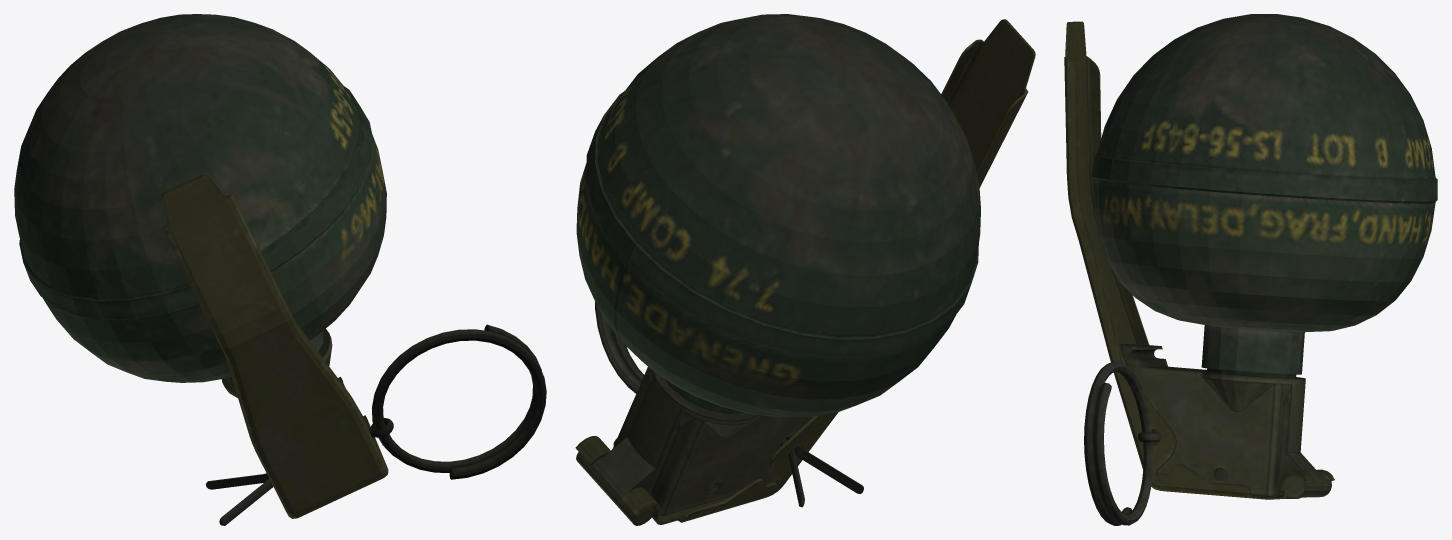
The picture shows the model from 3 angles, left to right: view 1: azimuth 30°, elevation 25°; view 2: azimuth 150°, elevation 25°; view 3: azimuth 270°, elevation 25°; orthographic projection. The views are drawn at different scales.
Parts seen in each view (by area): view 1: TW_58d3db5386f77426186285a0_PZ_Import; view 2: TW_58d3db5386f77426186285a0_PZ_Import; view 3: TW_58d3db5386f77426186285a0_PZ_Import.
Part boxes in pixels (x1,y1,x2,y2): TW_58d3db5386f77426186285a0_PZ_Import: (14,14,546,525); TW_58d3db5386f77426186285a0_PZ_Import: (575,14,1035,525); TW_58d3db5386f77426186285a0_PZ_Import: (1064,14,1437,525).
Bounding box in the file's own units: 0.048 × 0.0401 × 0.0515.
Materials: 1 (1 with a texture image).
